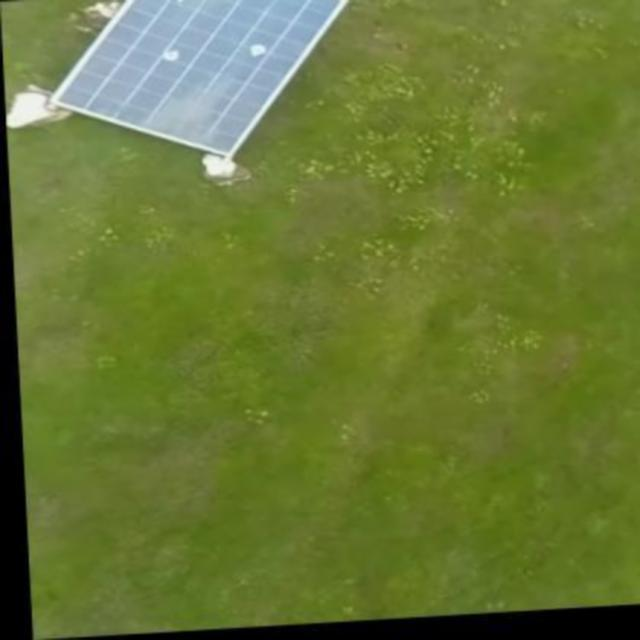soiled: (52, 1, 364, 157)
